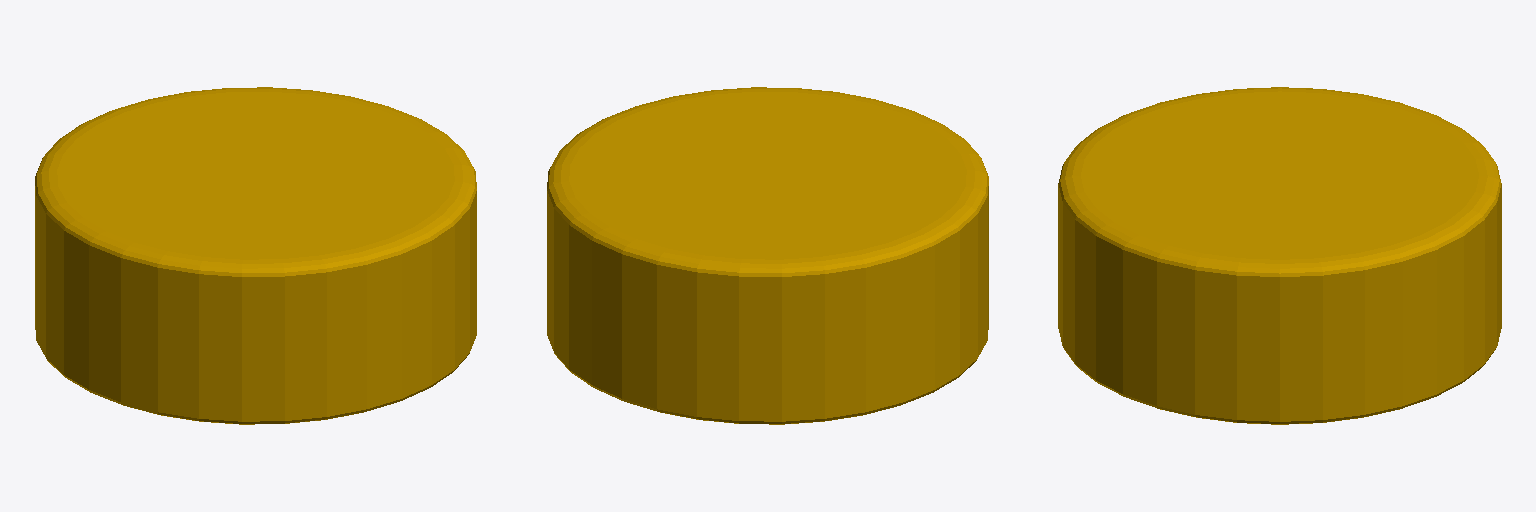
File: yellow.obj
3 views of the same model, side by side, from view 1: azimuth 30°, elevation 25°; view 2: azimuth 150°, elevation 25°; view 3: azimuth 270°, elevation 25° (orthographic).
Visible parts, largest first — view 1: Cylinder.001_DIFcOUCH; view 2: Cylinder.001_DIFcOUCH; view 3: Cylinder.001_DIFcOUCH.
Boxes of the visible parts, <box> form: Cylinder.001_DIFcOUCH: <box>35,87,476,424</box>; Cylinder.001_DIFcOUCH: <box>547,87,988,424</box>; Cylinder.001_DIFcOUCH: <box>1058,87,1501,424</box>.
Size of the model in its own units: 2 by 0.8 by 2.